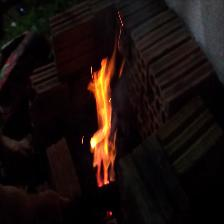fire: (63, 40, 139, 205)
